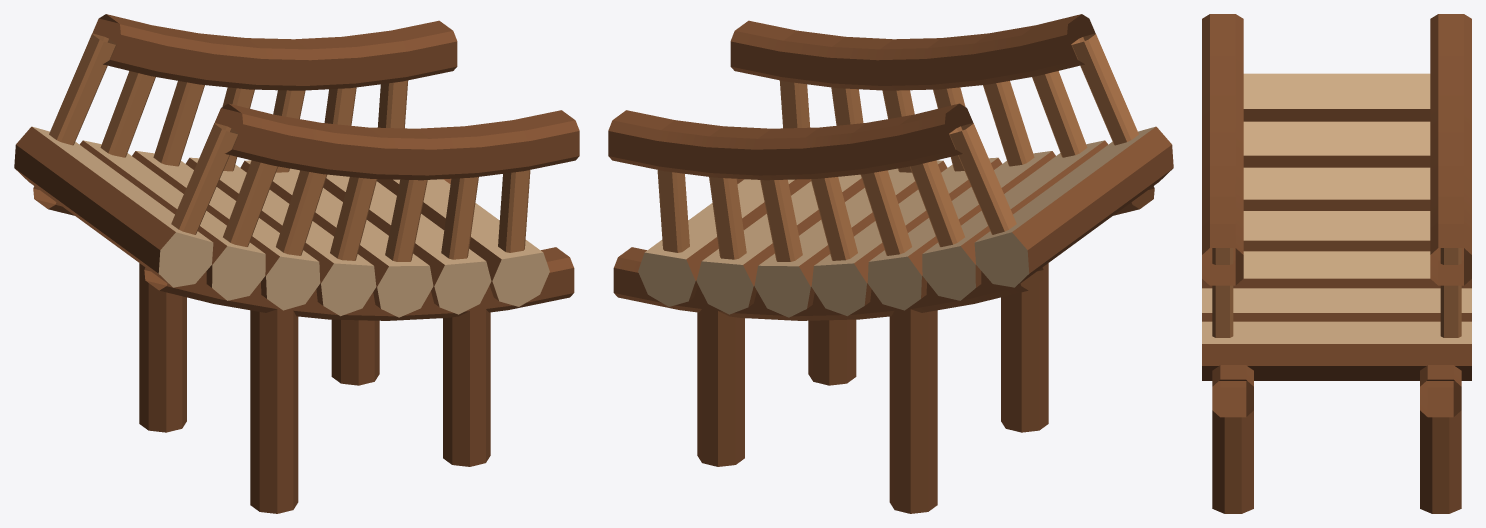
The model's file is Track_Bridge_Incline_Flat_Gentle_Supported.obj.
3 renders of one model, left to right at view 1: azimuth 30°, elevation 25°; view 2: azimuth 150°, elevation 25°; view 3: azimuth 270°, elevation 25°, orthographic. The views are drawn at different scales.
Parts seen in each view (by area): view 1: Bridge_Rail, Bridge_Rail_Support, Bridge_Pier, Log_Plank_End, Log_Plank_Bark, Log_Plank_Top, Bridge_Support_Beam; view 2: Bridge_Rail, Bridge_Rail_Support, Bridge_Pier, Log_Plank_End, Log_Plank_Bark, Log_Plank_Top, Bridge_Support_Beam; view 3: Log_Plank_Top, Log_Plank_Bark, Bridge_Rail, Bridge_Pier, Bridge_Support_Beam, Bridge_Rail_Support.
Part boxes in pixels (x1=…): Bridge_Rail: x1=92, y1=14, x2=579, y2=180; Bridge_Rail_Support: x1=49, y1=33, x2=530, y2=261; Bridge_Pier: x1=139, y1=263, x2=490, y2=513; Log_Plank_End: x1=158, y1=232, x2=549, y2=317; Log_Plank_Bark: x1=14, y1=126, x2=501, y2=308; Log_Plank_Top: x1=32, y1=126, x2=542, y2=266; Bridge_Support_Beam: x1=33, y1=178, x2=574, y2=320; Bridge_Rail: x1=608, y1=14, x2=1095, y2=180; Bridge_Rail_Support: x1=657, y1=33, x2=1138, y2=261; Bridge_Pier: x1=697, y1=263, x2=1048, y2=513; Log_Plank_End: x1=638, y1=232, x2=1029, y2=317; Log_Plank_Bark: x1=686, y1=126, x2=1173, y2=308; Log_Plank_Top: x1=645, y1=126, x2=1155, y2=266; Bridge_Support_Beam: x1=613, y1=178, x2=1154, y2=320; Log_Plank_Top: x1=1202, y1=73, x2=1471, y2=343; Log_Plank_Bark: x1=1202, y1=109, x2=1471, y2=380; Bridge_Rail: x1=1202, y1=14, x2=1471, y2=285; Bridge_Pier: x1=1212, y1=410, x2=1461, y2=513; Bridge_Support_Beam: x1=1212, y1=365, x2=1461, y2=417; Bridge_Rail_Support: x1=1212, y1=248, x2=1461, y2=337.
Size of the model in its own units: 2.19 by 2.04 by 1.3.
